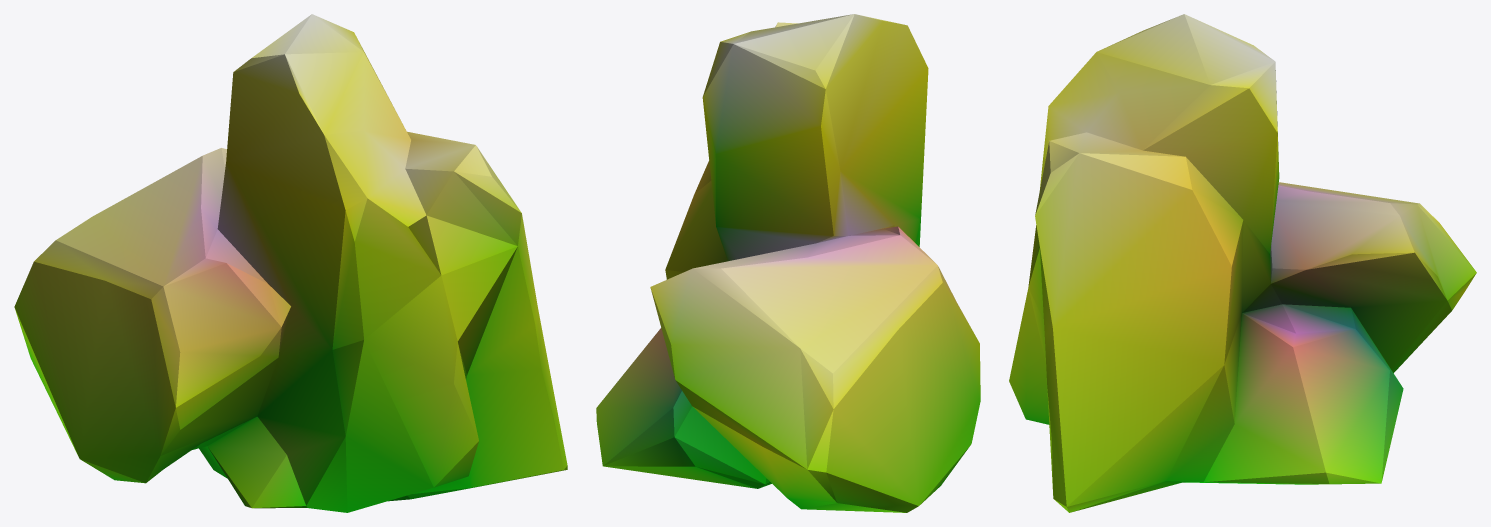
The model's file is rock_group_01_LOD2.fbx.
3 views of the same model, side by side, from view 1: azimuth 30°, elevation 25°; view 2: azimuth 150°, elevation 25°; view 3: azimuth 270°, elevation 25° (orthographic). The views are drawn at different scales.
Visible parts, largest first — view 1: LOD2; view 2: LOD2; view 3: LOD2.
Boxes of the visible parts, bbox=[...] form: LOD2: bbox=[14, 14, 567, 512]; LOD2: bbox=[596, 14, 980, 512]; LOD2: bbox=[1009, 14, 1476, 512].
Bounding box in the file's own units: 37982 × 43539 × 46011.
